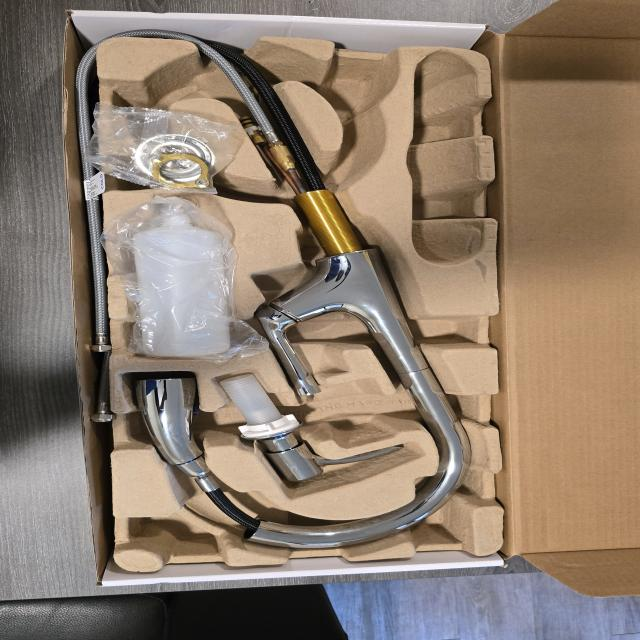1: (134, 37, 471, 550)
2: (219, 373, 405, 483)
3: (129, 199, 230, 358)
4m: (406, 51, 482, 266)
5m: (318, 63, 390, 115)
6: (77, 102, 245, 192)
7m: (111, 60, 196, 128)
